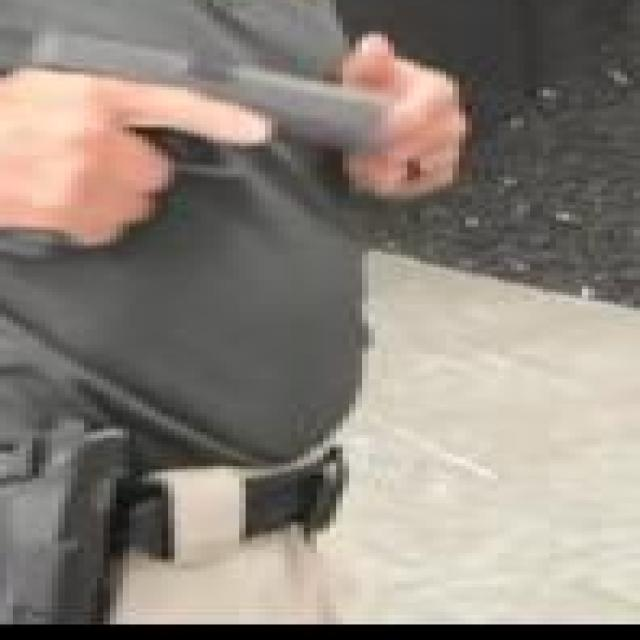Guns: (0, 3, 465, 258)
